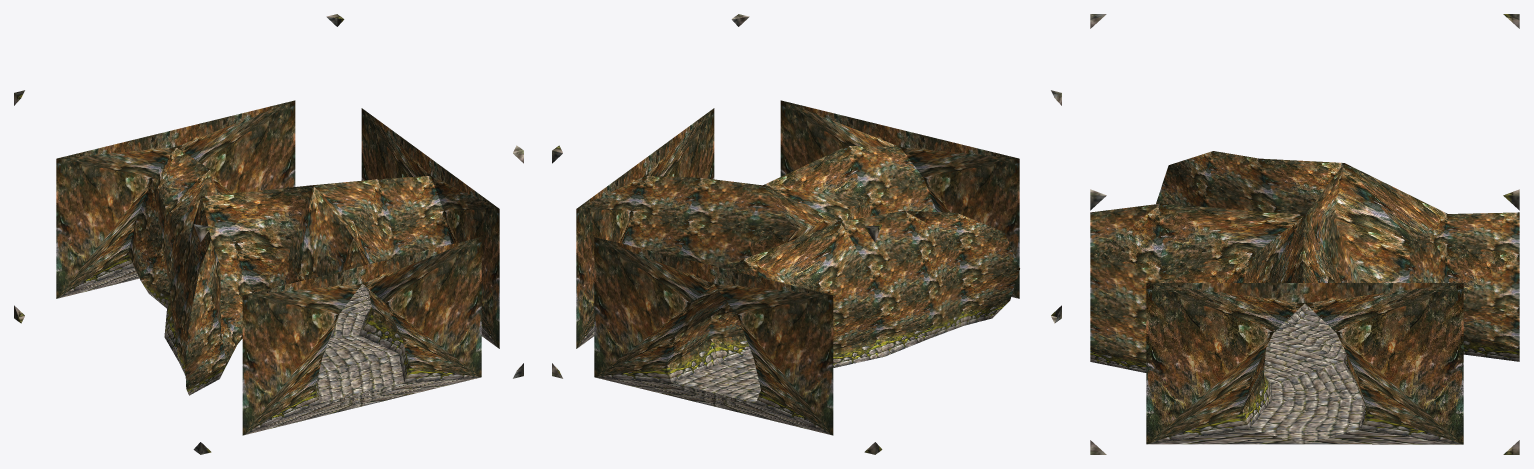
File: lbc_3b.glb
The picture shows the model from 3 angles, left to right: view 1: azimuth 30°, elevation 25°; view 2: azimuth 150°, elevation 25°; view 3: azimuth 270°, elevation 25°; orthographic projection. The views are drawn at different scales.
Parts seen in each view (by area): view 1: lbc_3b-col; view 2: lbc_3b-col; view 3: lbc_3b-col.
Boxes of the visible parts, x1=… form: lbc_3b-col: x1=14, y1=14, x2=523, y2=454; lbc_3b-col: x1=552, y1=14, x2=1061, y2=454; lbc_3b-col: x1=1090, y1=14, x2=1519, y2=454.
Size of the model in its own units: 15 by 10 by 15.
Materials: 3 (3 with a texture image).
